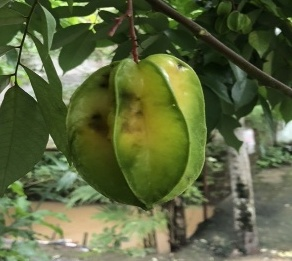Khe: (59, 54, 215, 212)
